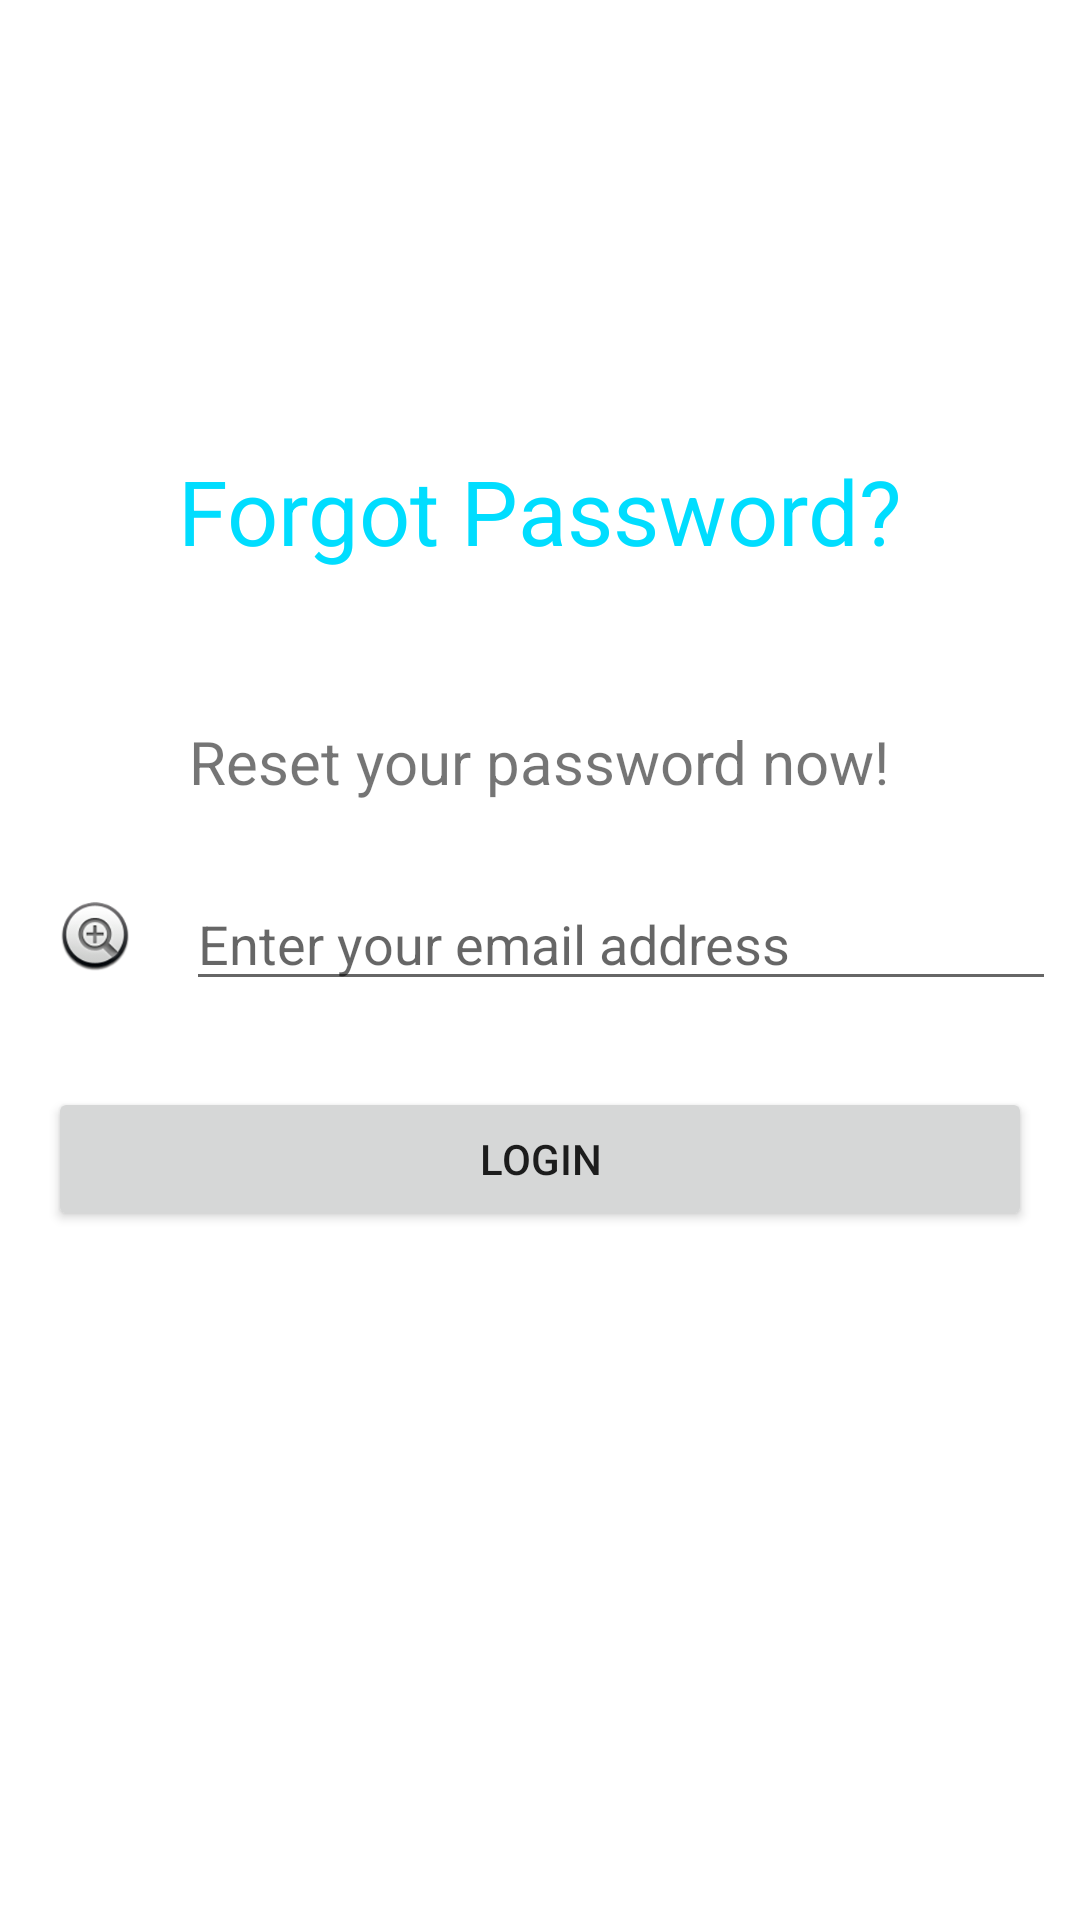

Screen size 1080px×1920px. Icon name, then its center in pixels as (x=x, y=y):
plus: (x=95, y=936)
